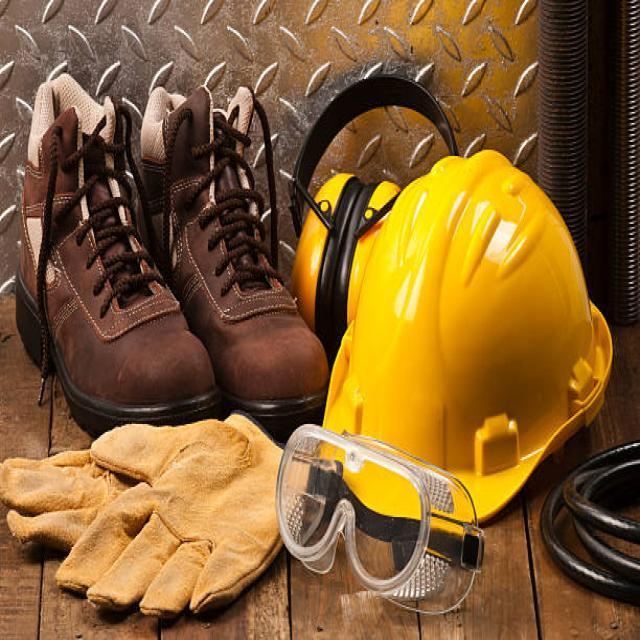helmet: (314, 196, 594, 521)
